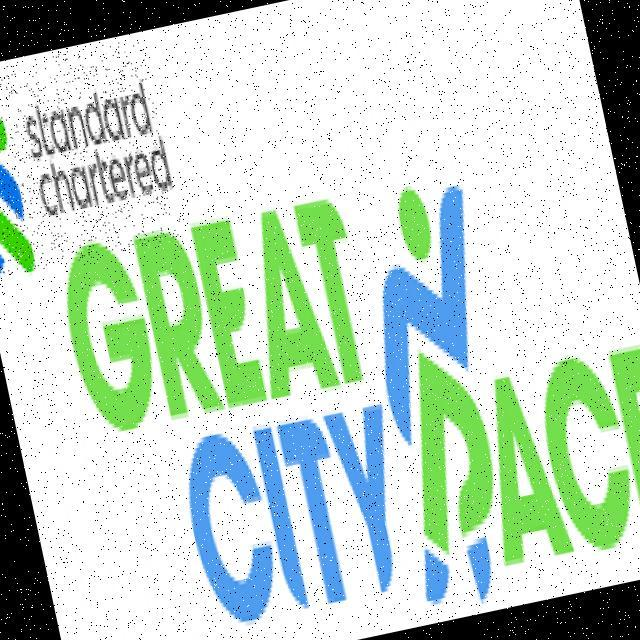Standard Chartered: (0, 35, 183, 280)
